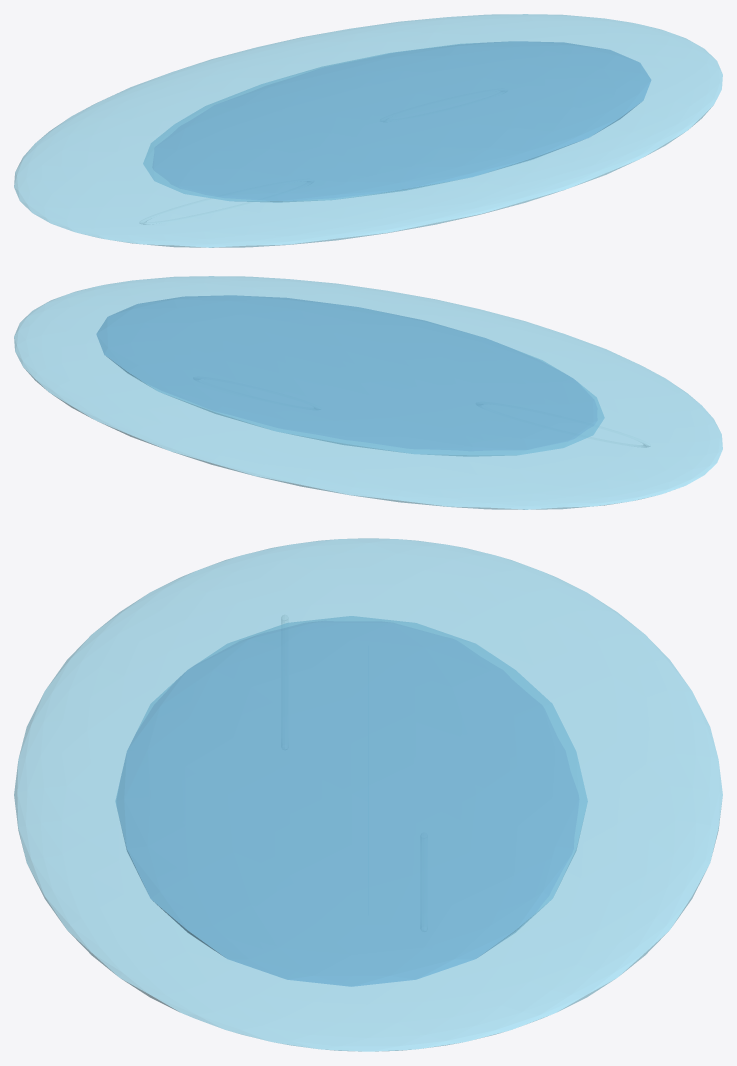
The model's file is small_puddle_v1.glb.
The picture shows the model from 3 angles, top to bottom: view 1: azimuth 30°, elevation 25°; view 2: azimuth 150°, elevation 25°; view 3: azimuth 270°, elevation 25°; orthographic projection. The views are drawn at different scales.
Visible parts, largest first — view 1: small_puddle, small_puddle_deep_center; view 2: small_puddle, small_puddle_deep_center; view 3: small_puddle, small_puddle_deep_center.
Boxes of the visible parts, <box> form: small_puddle: <box>14,14,722,247</box>; small_puddle_deep_center: <box>143,41,651,202</box>; small_puddle: <box>14,276,722,509</box>; small_puddle_deep_center: <box>96,295,604,456</box>; small_puddle: <box>14,538,722,1051</box>; small_puddle_deep_center: <box>115,616,587,986</box>.
Bounding box in the file's own units: 1.44 × 0.0609 × 0.84.
